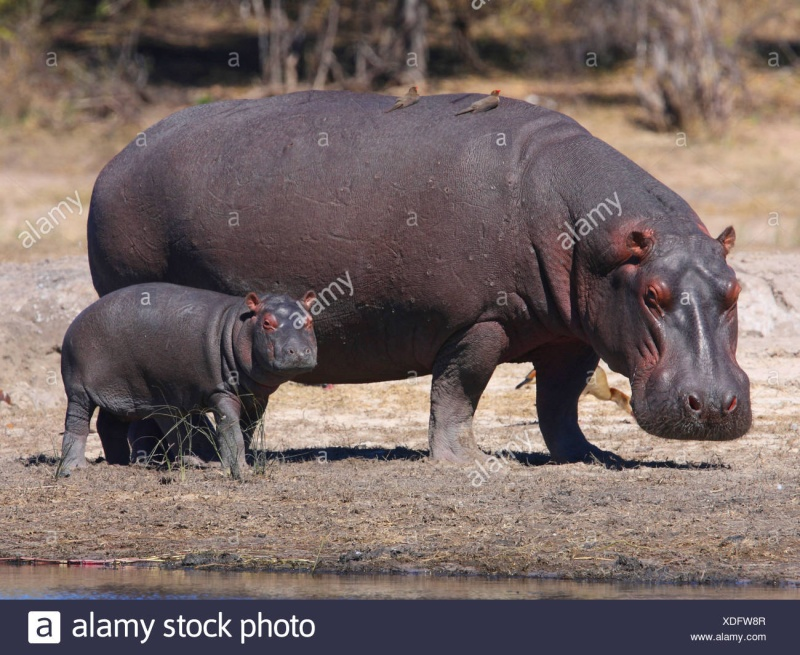hipopotamo: (85, 86, 760, 466), (52, 278, 321, 473)
